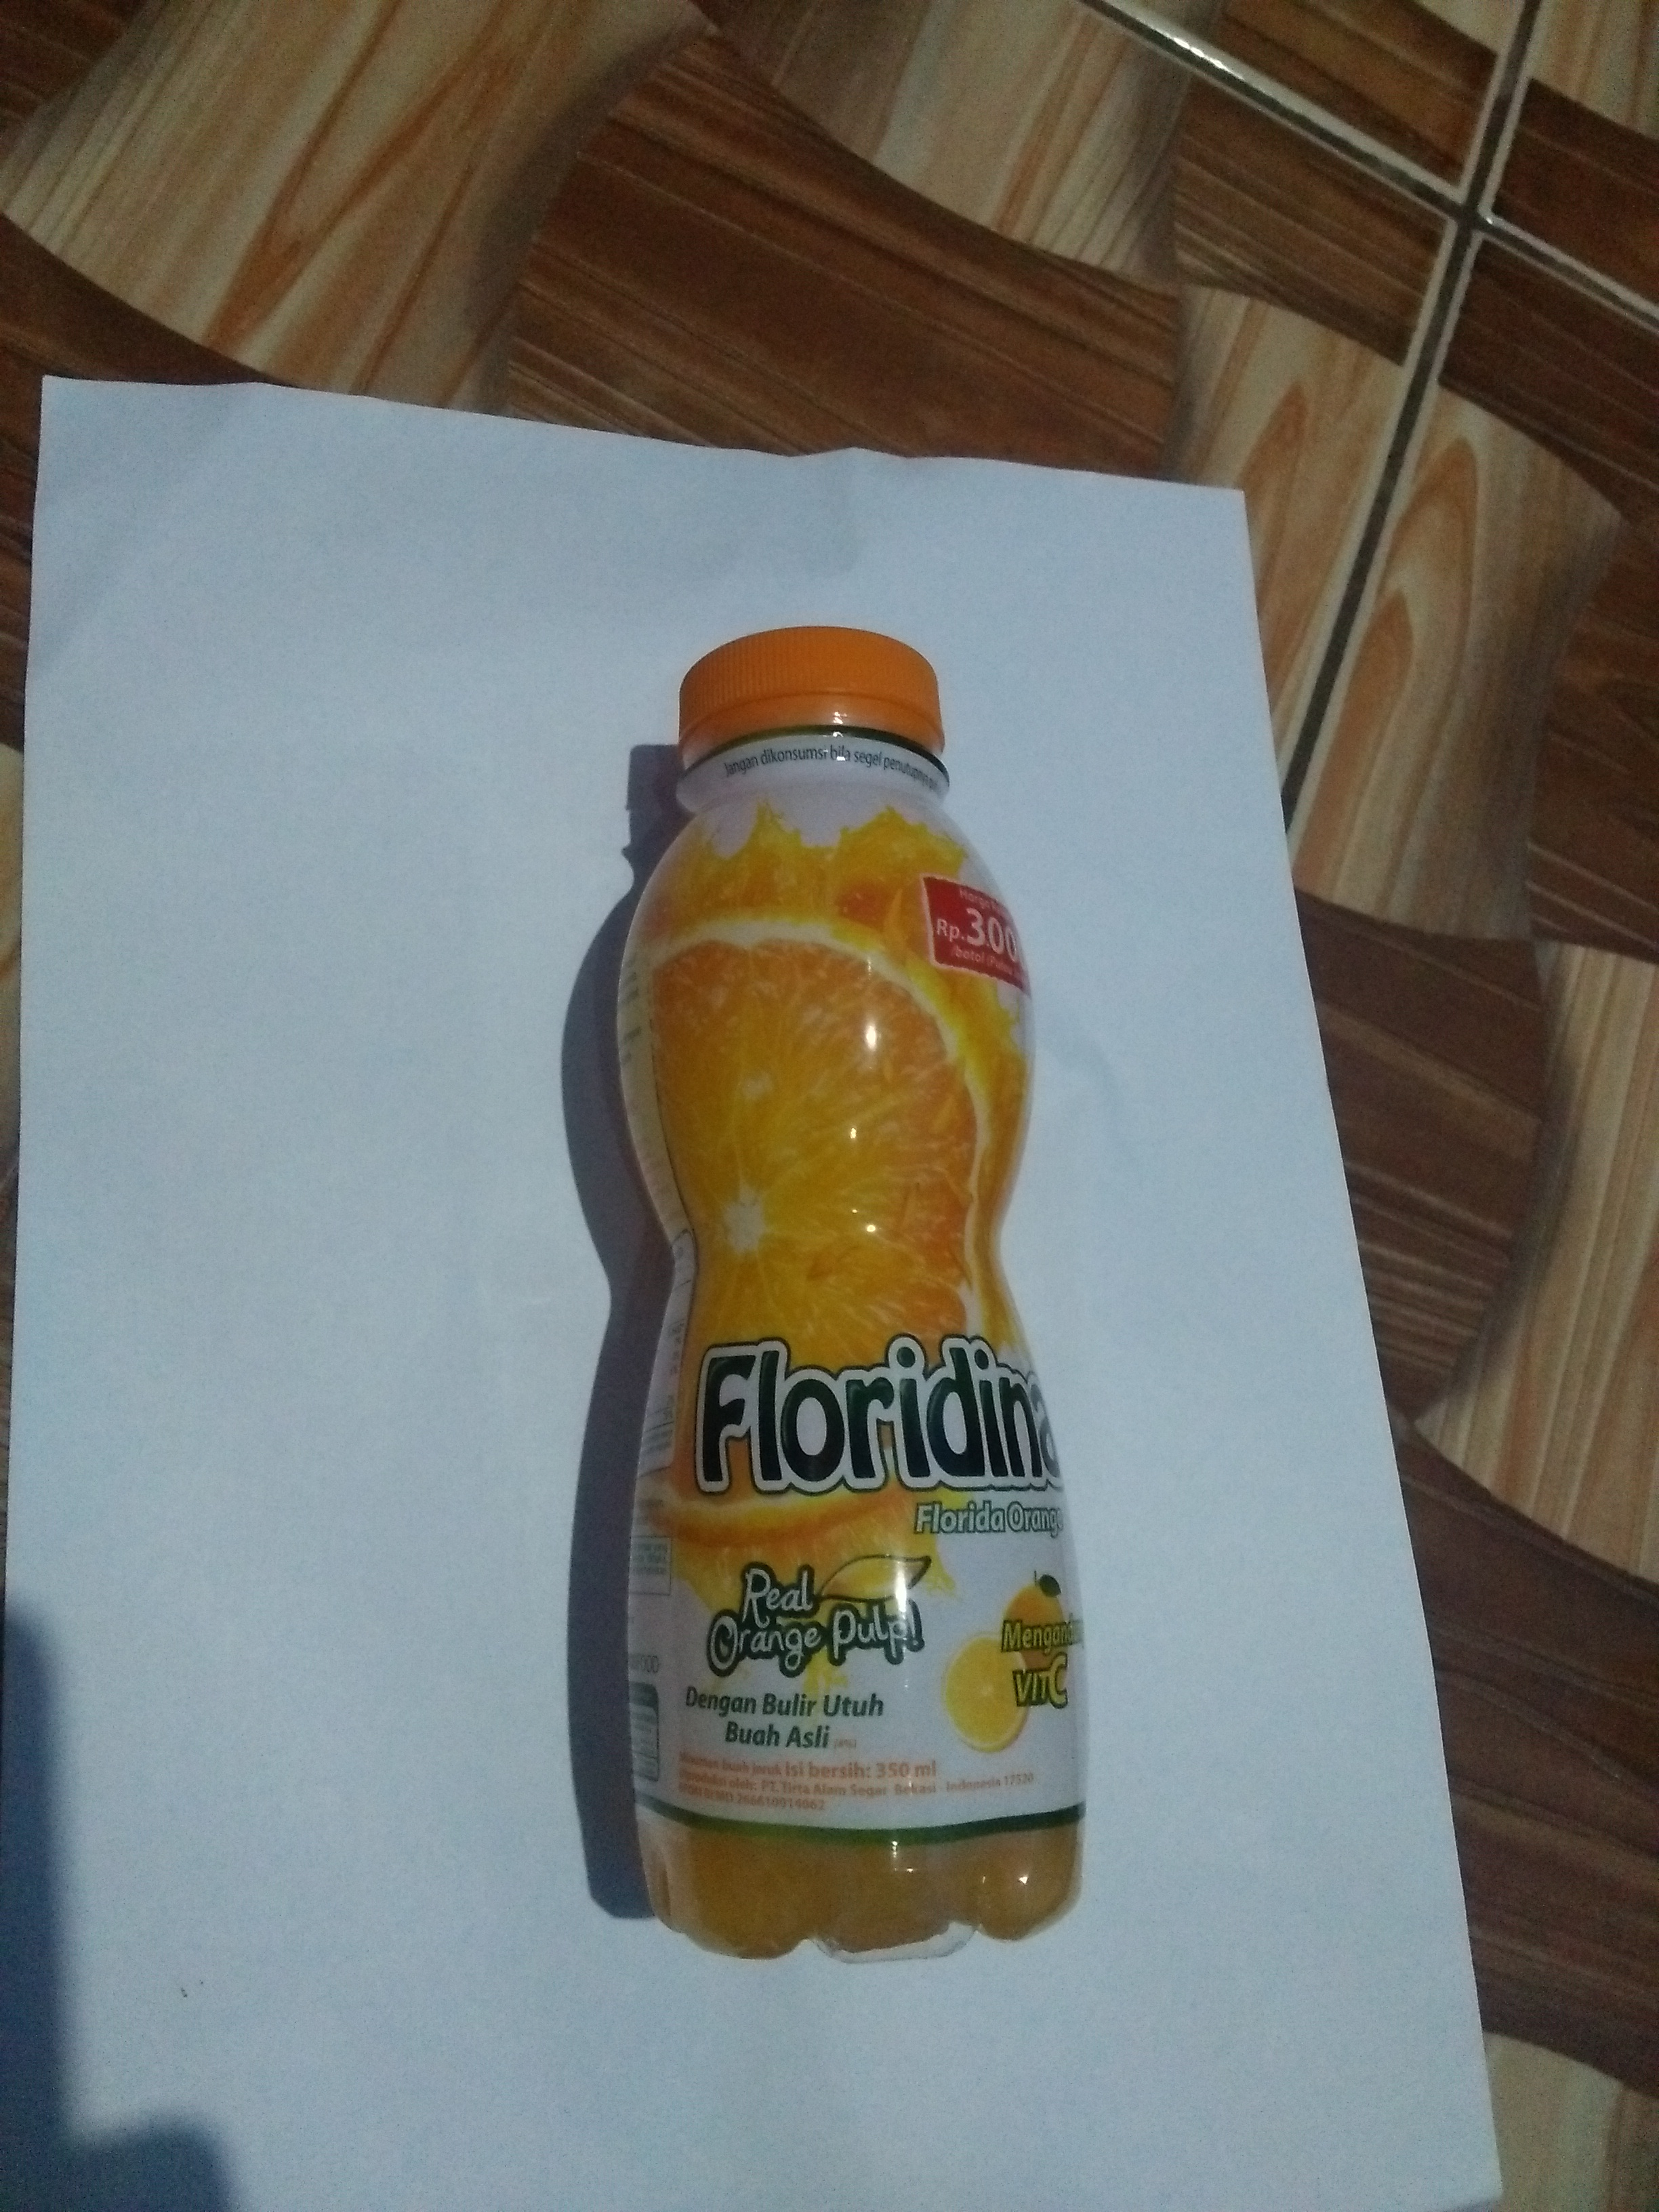Floridina: (605, 611, 1121, 1965)
